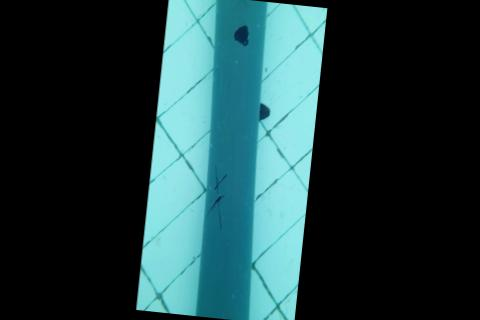kebocoran: (231, 22, 249, 48)
keretakan: (205, 166, 228, 230)
